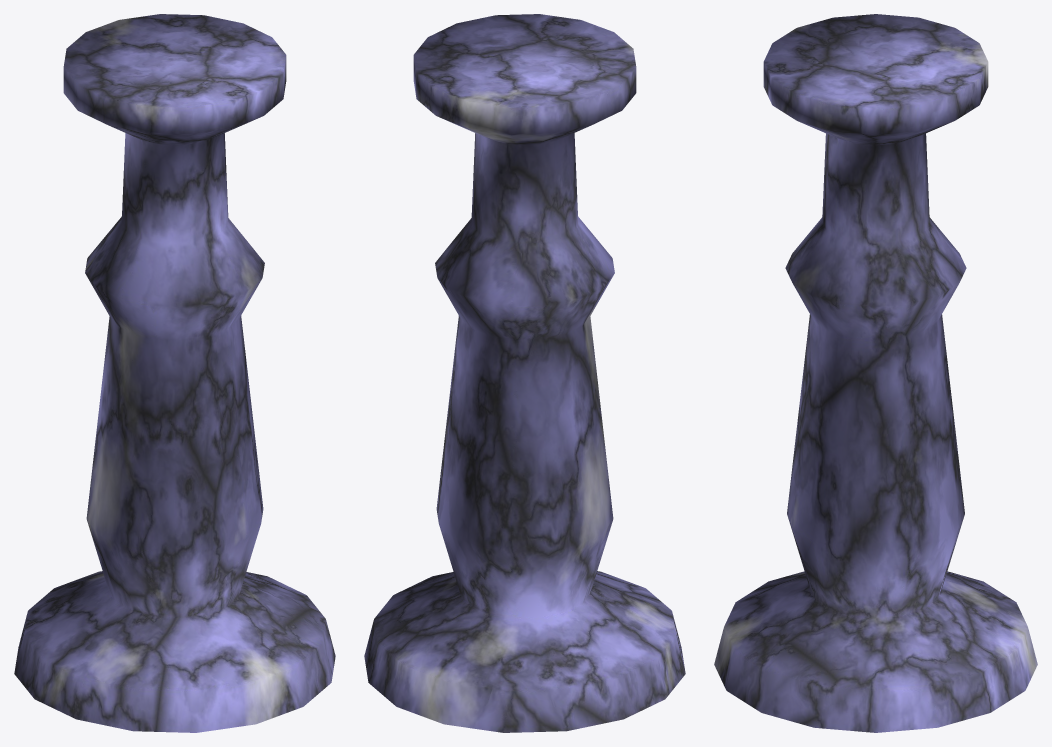
Rendered from candlestick.glb.
3 renders of one model, left to right at view 1: azimuth 30°, elevation 25°; view 2: azimuth 150°, elevation 25°; view 3: azimuth 270°, elevation 25°, orthographic.
Visible parts, largest first — view 1: candlestick; view 2: candlestick; view 3: candlestick.
Boxes of the visible parts, x1,y1,x2,y2 form: candlestick: (14, 14, 335, 732); candlestick: (364, 14, 685, 732); candlestick: (714, 14, 1037, 732).
Size of the model in its own units: 0.4913 by 1.01 by 0.4913.
Materials: 1 (1 with a texture image).
